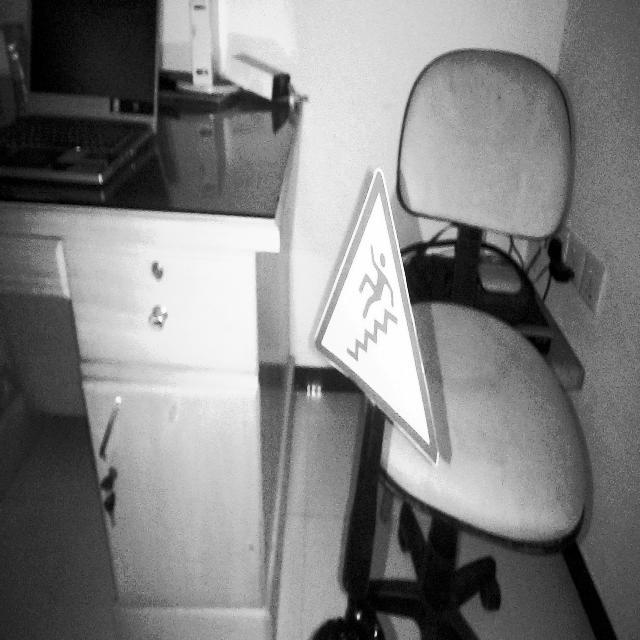Sign: (313, 167, 441, 469)
